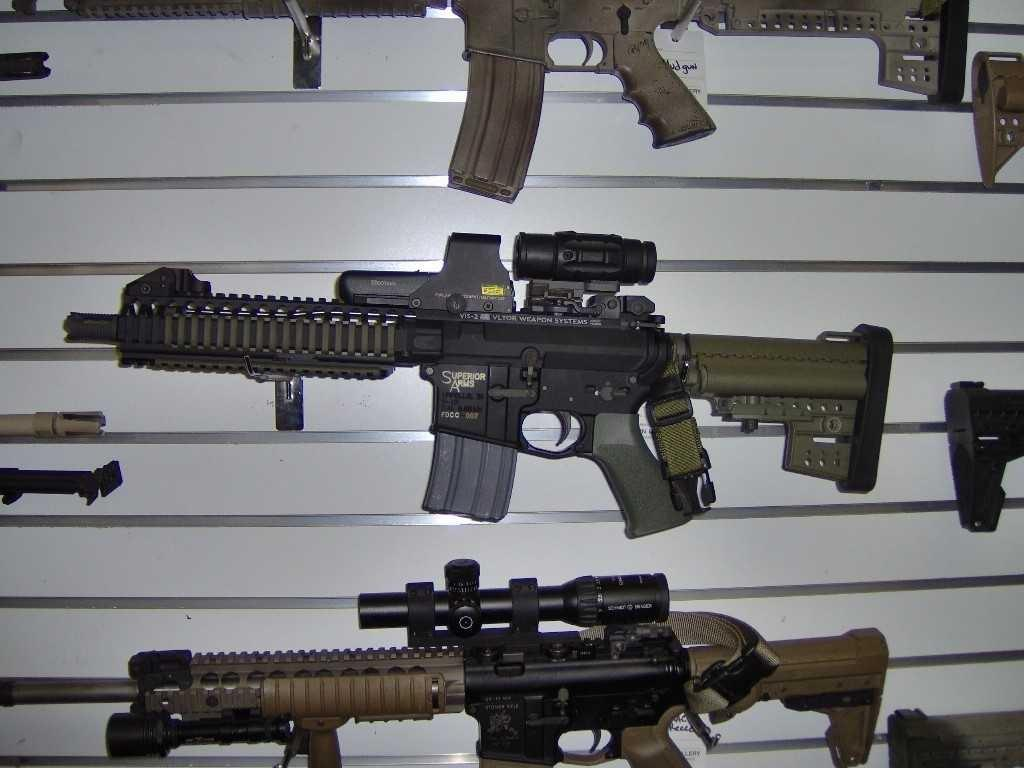heavyweapon: (16, 237, 927, 561), (0, 552, 929, 768)
